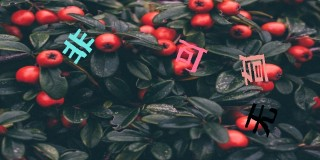厚: (238, 52, 269, 86)
可: (176, 37, 208, 73)
无: (245, 102, 278, 138)
非: (62, 28, 95, 65)
